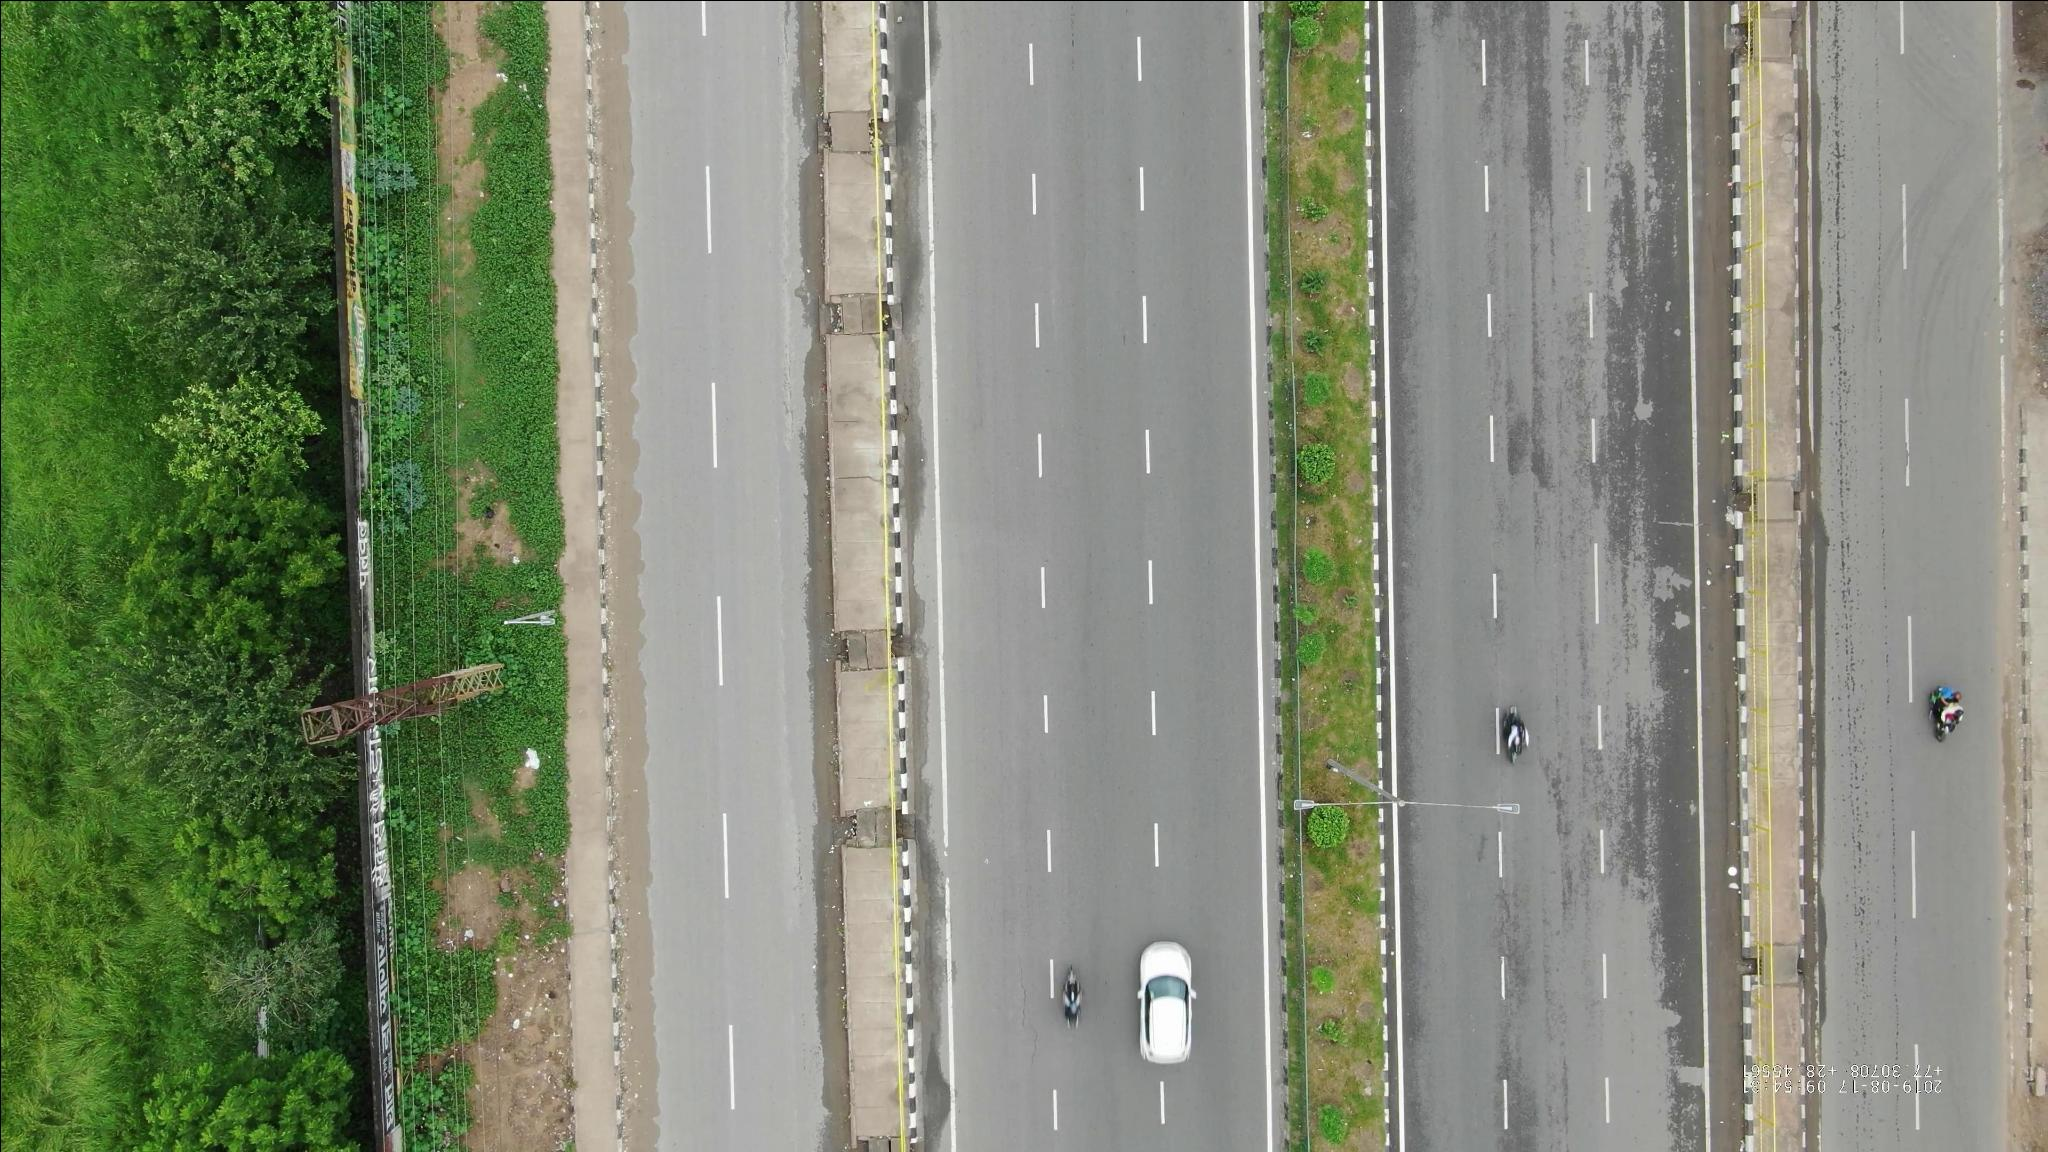Muddy_road: (585, 560, 674, 1144), (589, 7, 660, 532)
